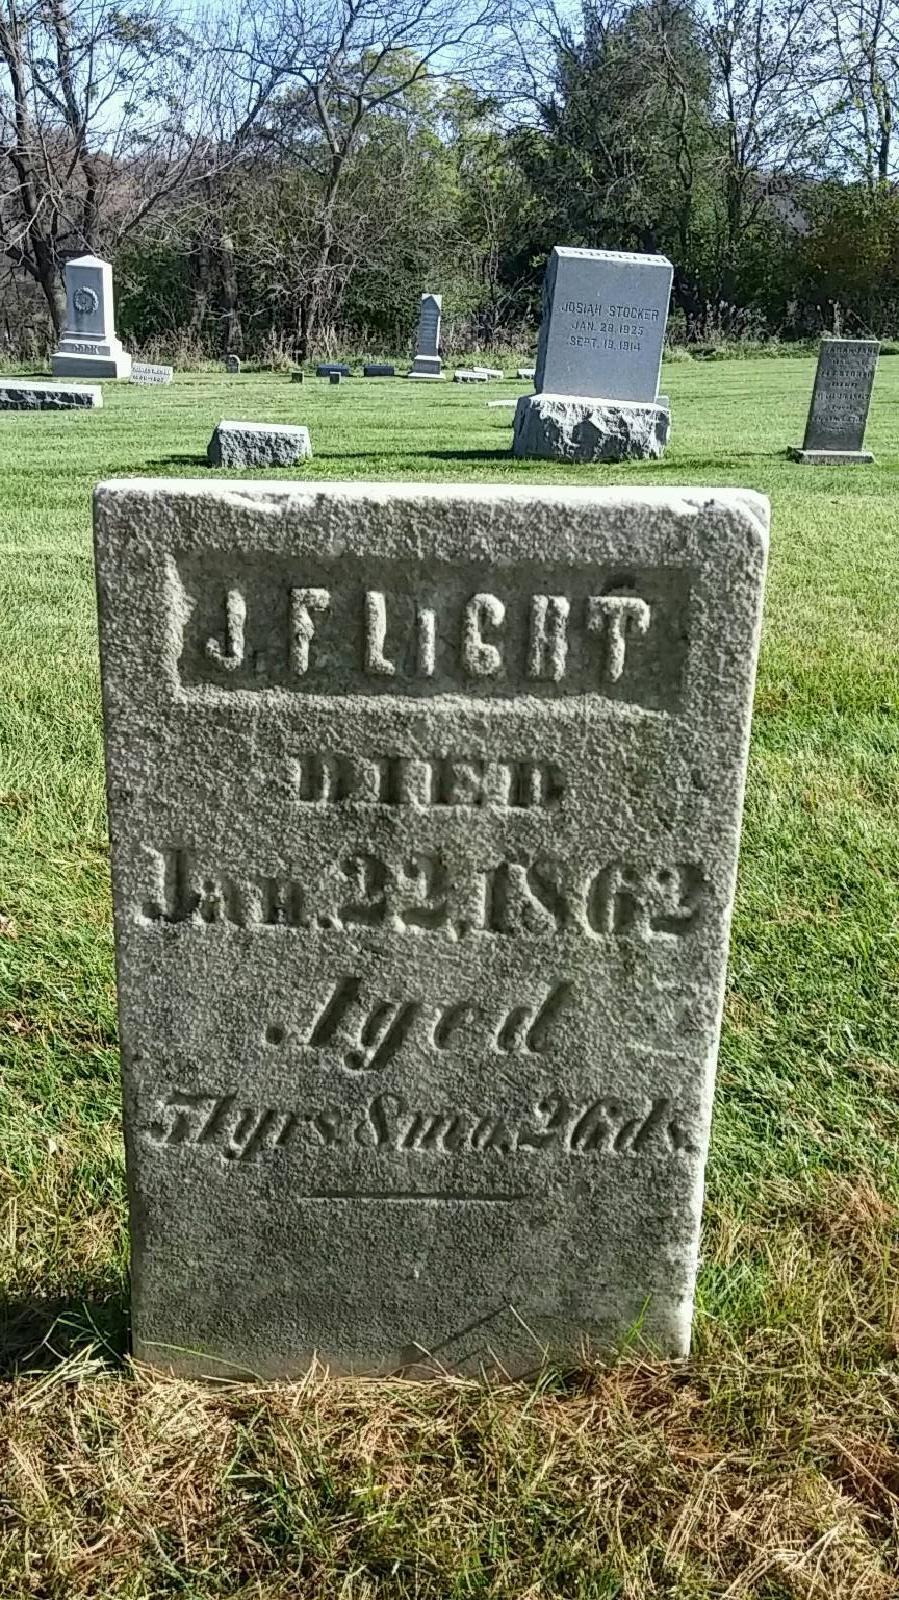upright: (84, 466, 776, 1387)
